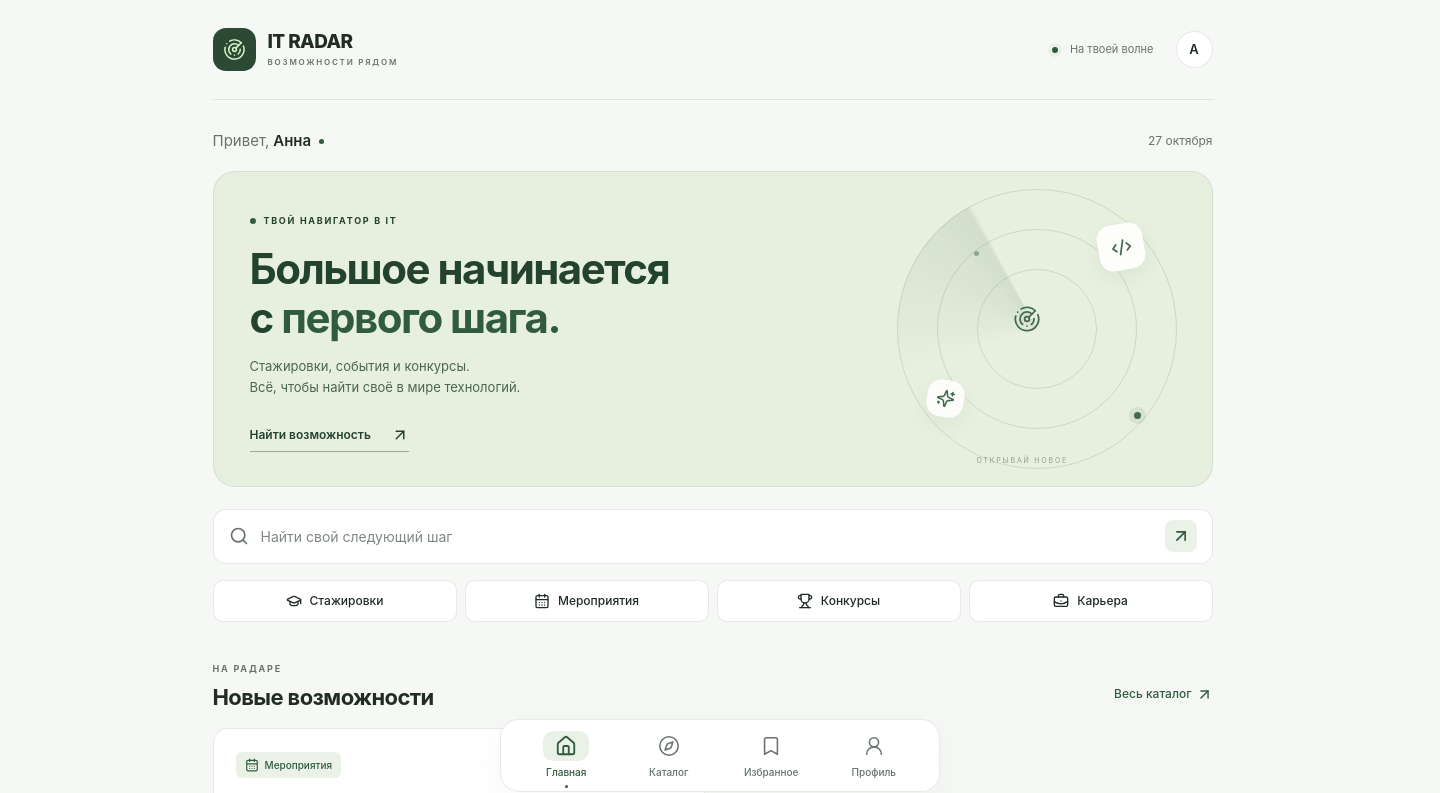
it: Карточки и экраны › navigates home → category → detail → back → profile
The width and height of the screenshot is (1440, 793).
Check: the heading "Новые возможности" is shown, box [212, 684, 434, 710]
Step 1. Click the button "Конкурсы" → (838, 601), box [716, 580, 960, 622]
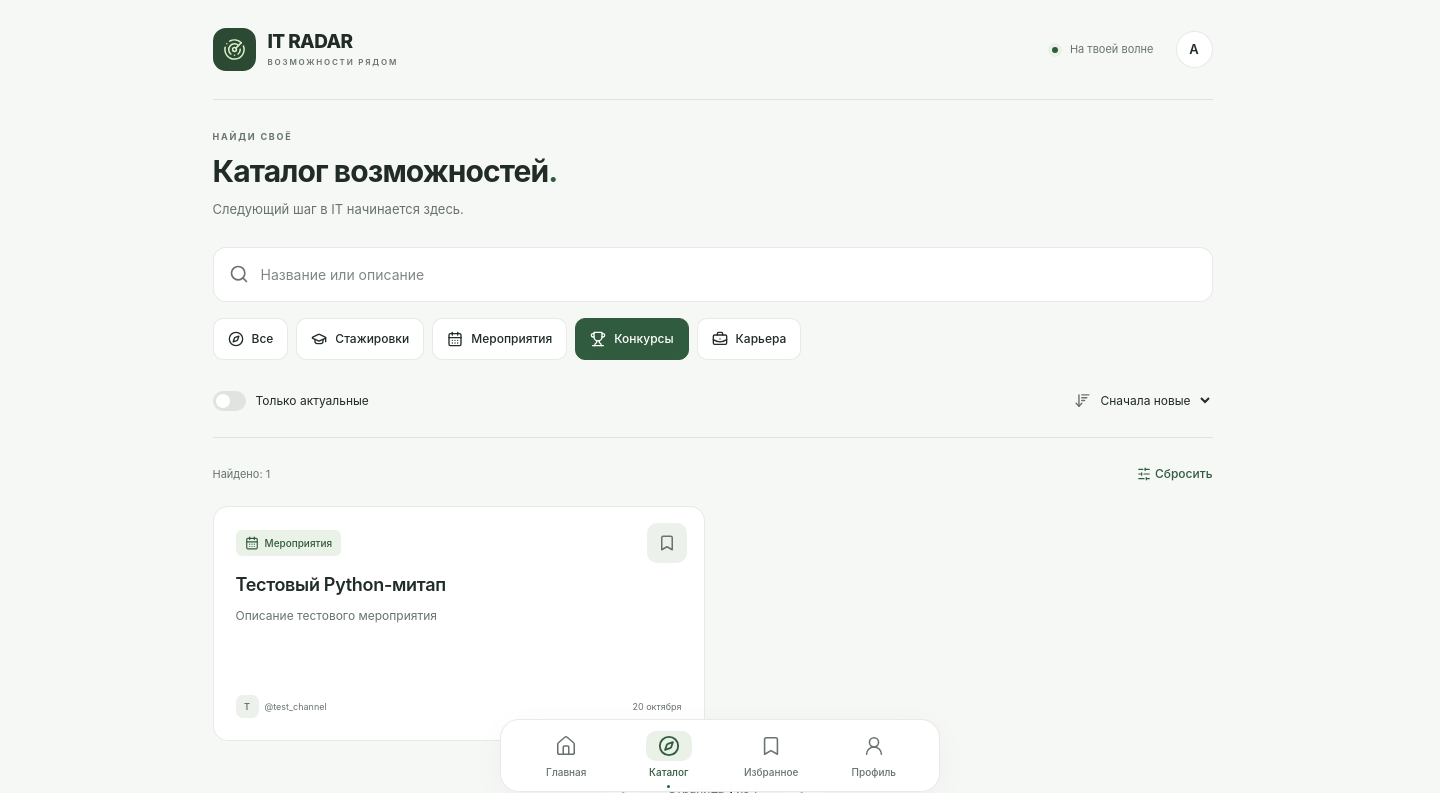
Check: the heading "Каталог возможностей." is shown, box [212, 152, 557, 188]
Step 2. Click the button "Тестовый Python-митап" → (341, 584), box [236, 572, 446, 597]
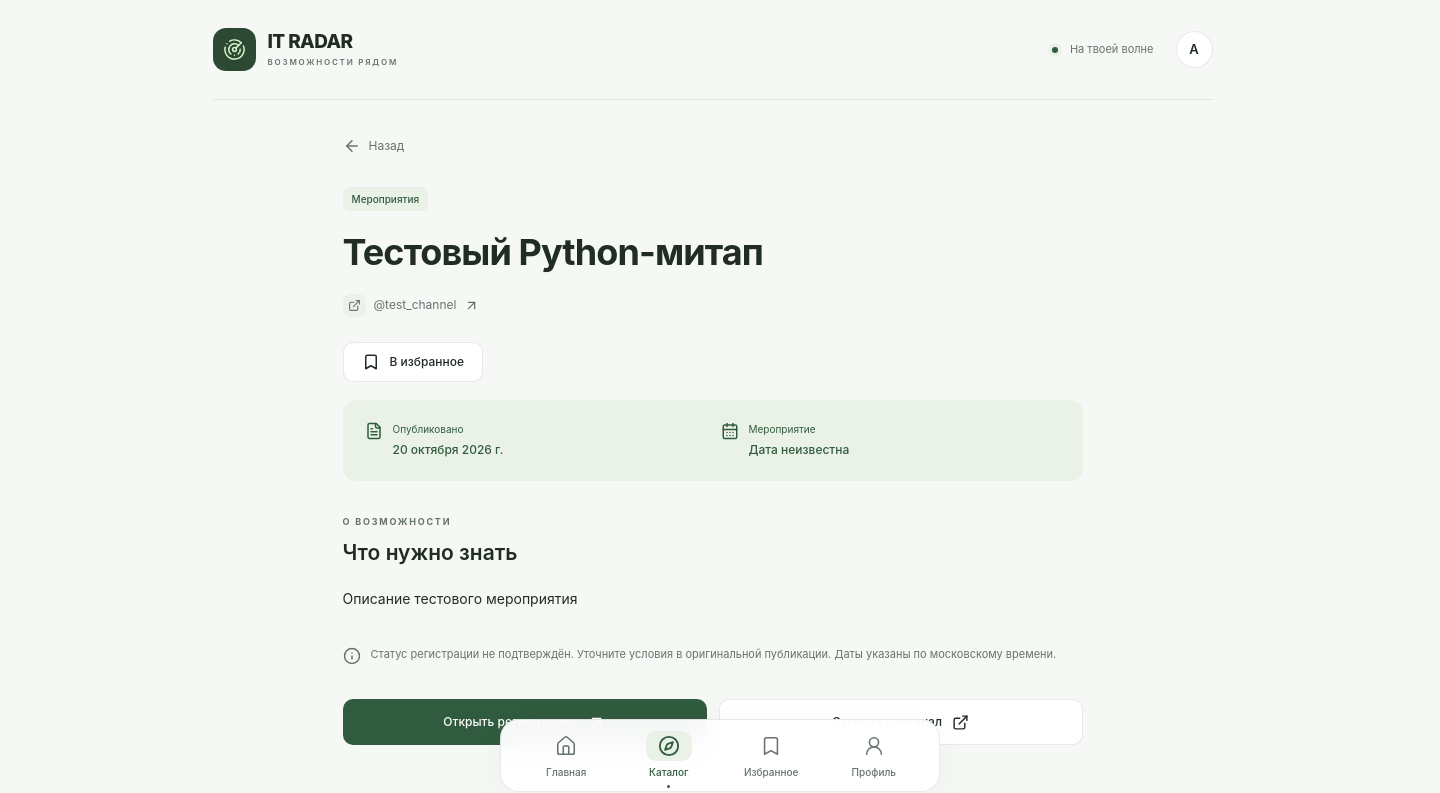
Check: the heading "Тестовый Python-митап" is shown, box [342, 230, 763, 274]
Step 3. Click the button "Назад" → (373, 146), box [342, 130, 404, 162]
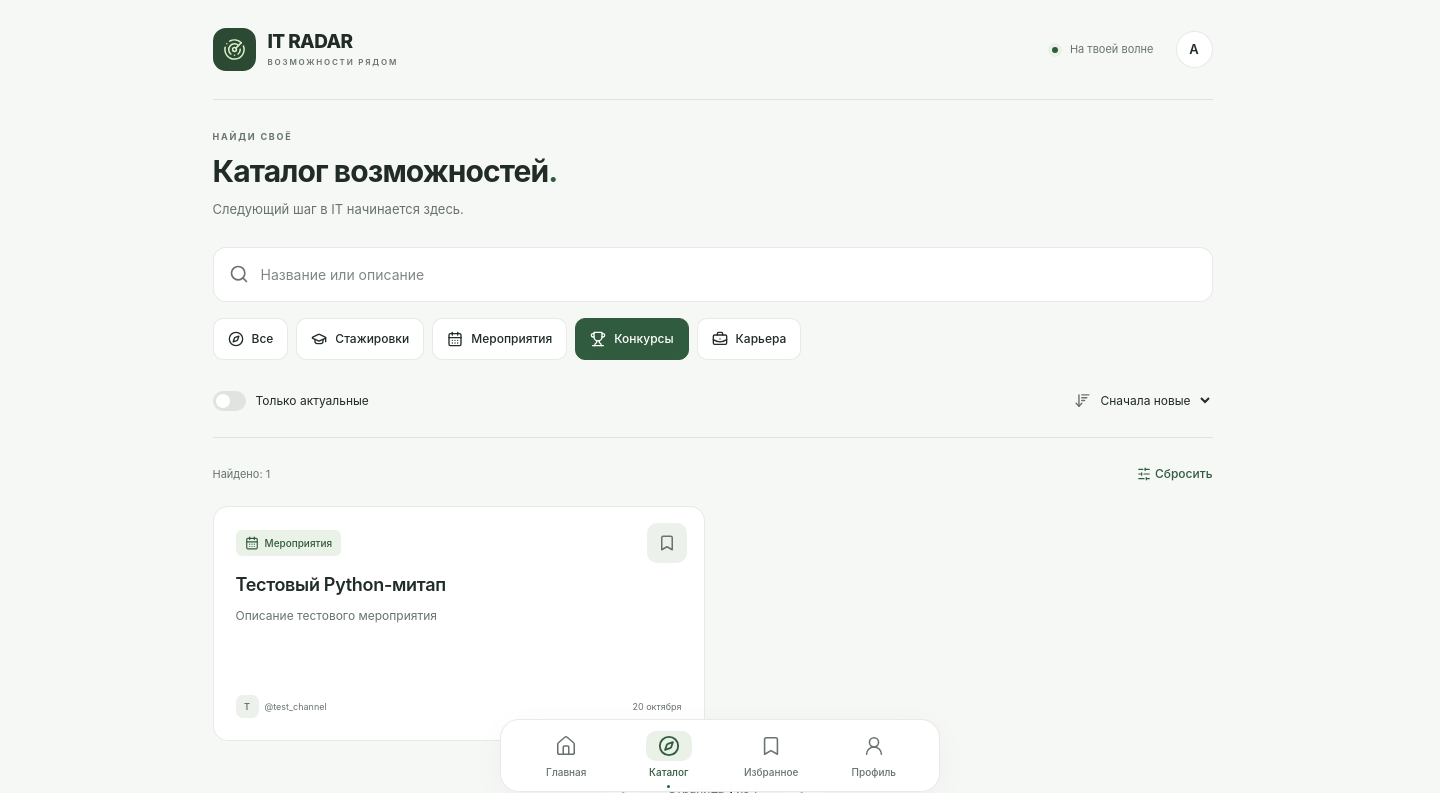
Check: the heading "Каталог возможностей." is shown, box [212, 152, 557, 188]
Step 4. Click the button "Профиль" → (874, 756), box [822, 725, 925, 786]
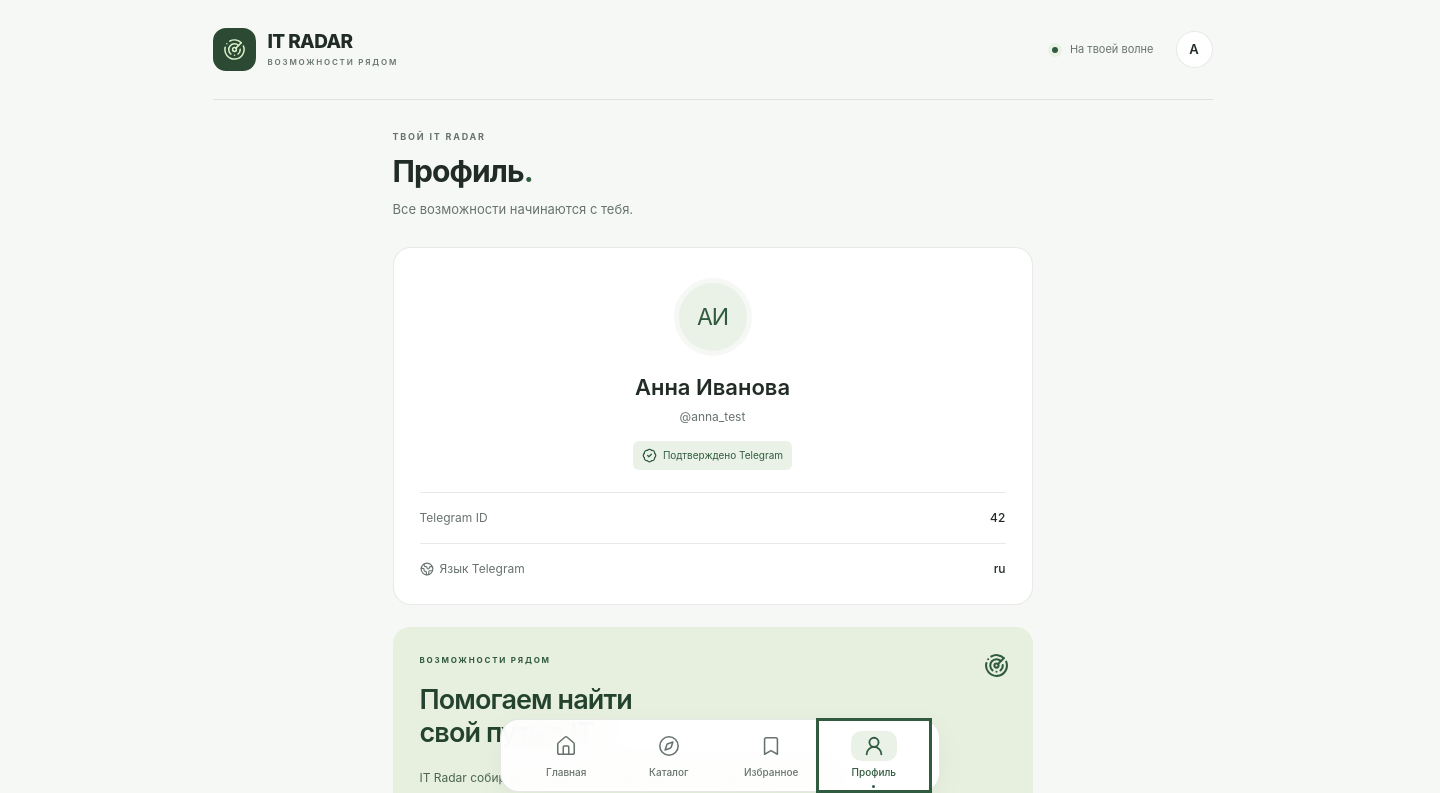
Check: the text "42" is shown, box [990, 509, 1006, 527]
